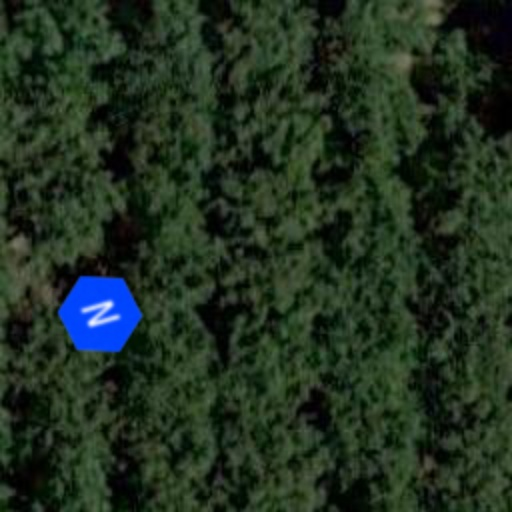hexagon: (42, 256, 158, 372)
